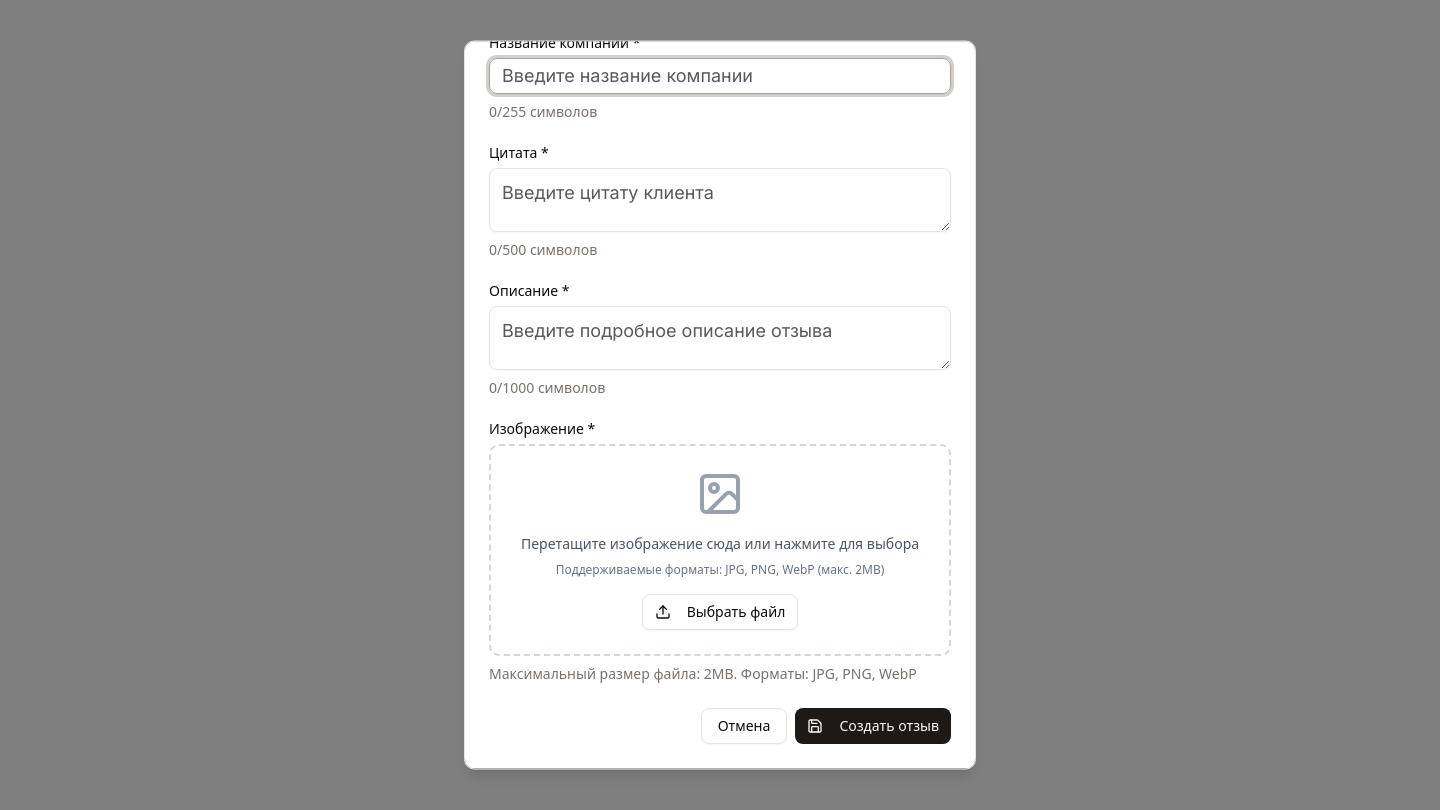
TestimonialDialog › validates required fields
(page scrolled)
Click the button "Создать отзыв": (873, 726) [795,708,951,744]
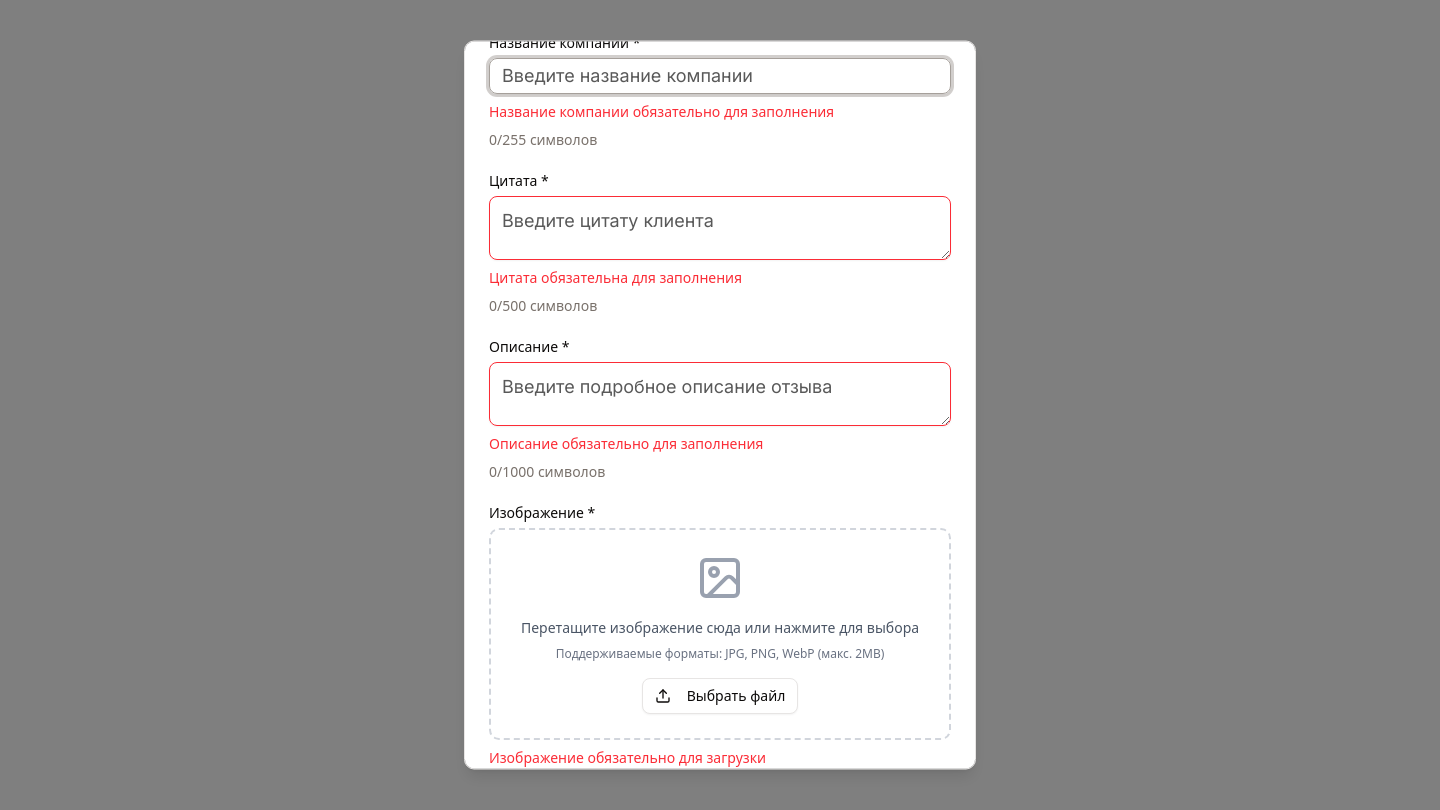
Check: the text "Название компании обязательно для заполнения" is shown, box [489,102,834,122]
Check: the text "Цитата обязательна для заполнения" is shown, box [489,268,742,288]
Check: the text "Описание обязательно для заполнения" is shown, box [489,434,763,454]
